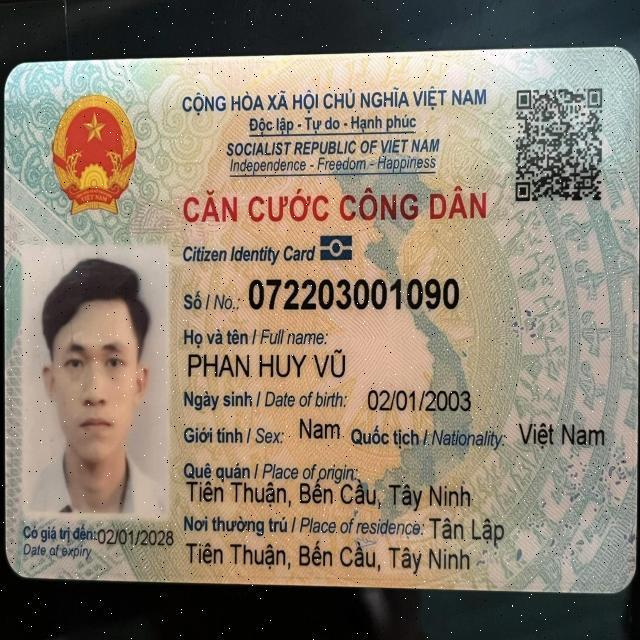current_place: (182, 538, 476, 578), (426, 513, 507, 550)
dob: (362, 384, 476, 417)
expire_date: (96, 524, 178, 553)
gender: (295, 413, 344, 446)
id: (243, 273, 463, 319)
name: (184, 346, 350, 384)
nationality: (515, 417, 609, 454)
origin_place: (182, 476, 474, 514)
